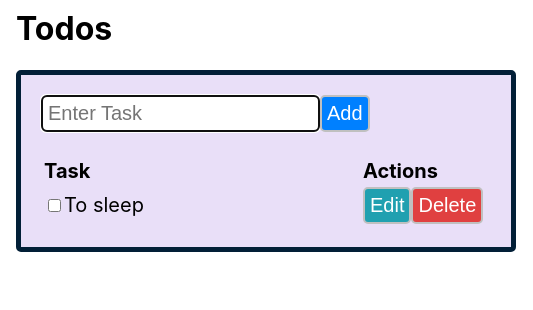
Test case: To add an item and submit using Add button › To check whether added item is present
The width and height of the screenshot is (533, 310).
Type "To eat" into the field with test id "input-field-id" at (180,113), box [41,95,320,132]
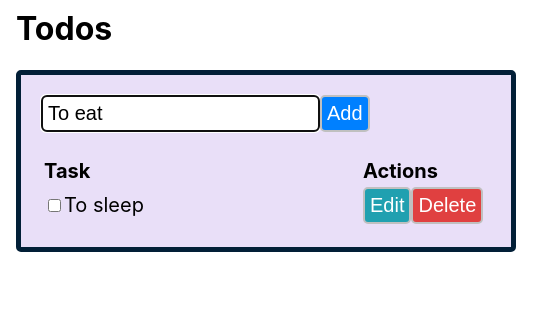
Click the button with test id "add-task-button" at (345,113), box [320,95,370,132]
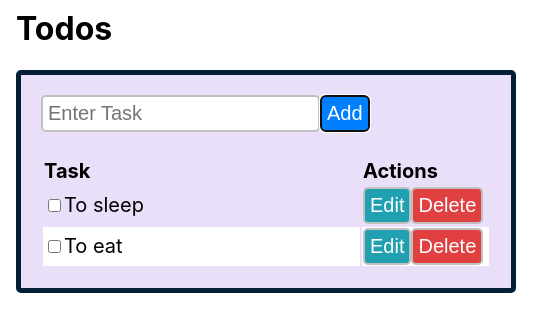
Result: the text with test id "1" reads "To eat" at [64,234,123,258]
